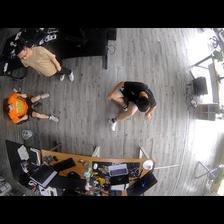fall: (106, 79, 159, 132)
normal: (15, 43, 73, 81), (3, 92, 59, 123)
